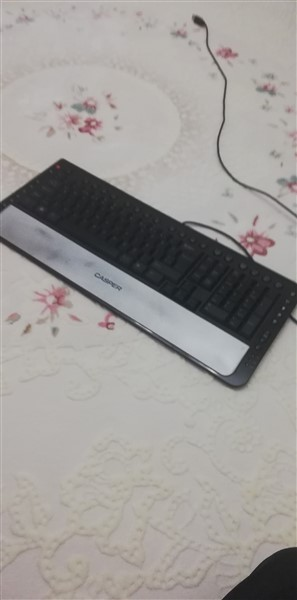klavye: (1, 153, 297, 389)
